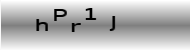1: (83, 6, 95, 21)
J: (107, 15, 116, 32)
P: (52, 8, 68, 22)
h: (34, 17, 48, 32)
r: (70, 22, 81, 33)
